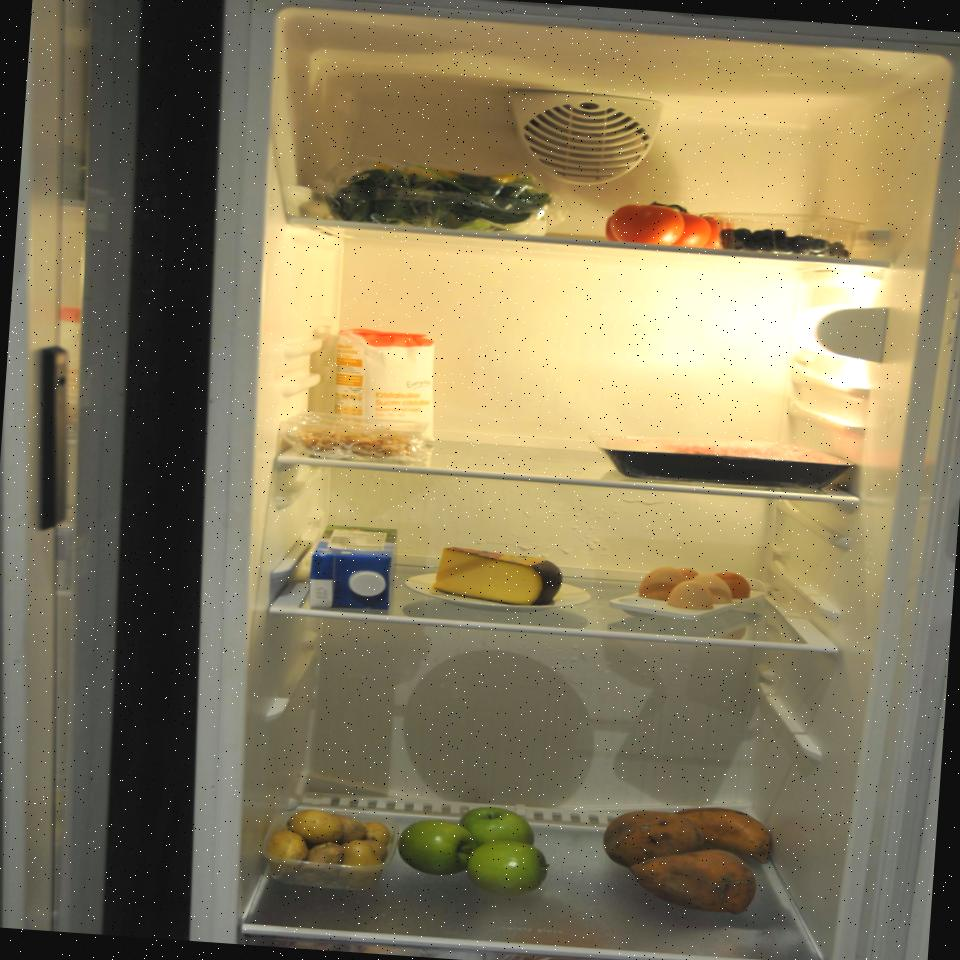Huevos: (636, 555, 764, 625)
Leche: (300, 521, 403, 617)
Manzana: (392, 794, 560, 904)
Queso: (428, 540, 566, 607)
Tomate: (596, 194, 738, 252)
